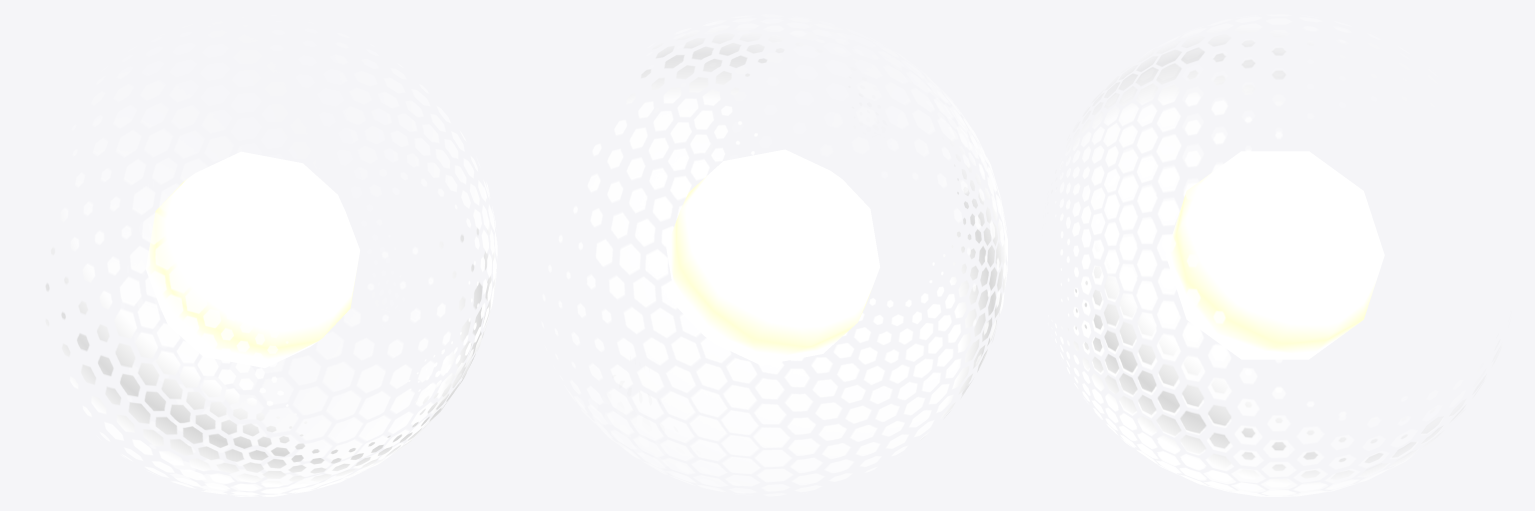
The model's file is sensor.glb.
3 views of the same model, side by side, from view 1: azimuth 30°, elevation 25°; view 2: azimuth 150°, elevation 25°; view 3: azimuth 270°, elevation 25° (orthographic).
Visible parts, largest first — view 1: GeoSphere002_LED 1_0, Icosfera; view 2: GeoSphere002_LED 1_0, Icosfera; view 3: GeoSphere002_LED 1_0, Icosfera.
Part boxes in pixels (left/top/right/bottom): GeoSphere002_LED 1_0: left=45, top=33, right=497, bottom=496; Icosfera: left=146, top=151, right=359, bottom=367; GeoSphere002_LED 1_0: left=541, top=14, right=1007, bottom=496; Icosfera: left=666, top=149, right=879, bottom=365; GeoSphere002_LED 1_0: left=1048, top=14, right=1501, bottom=496; Icosfera: left=1165, top=151, right=1384, bottom=359.
Size of the model in its own units: 1.12 by 1.12 by 1.12.
2 materials, 1 textured.
